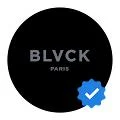fraud: (76, 78, 106, 109)
